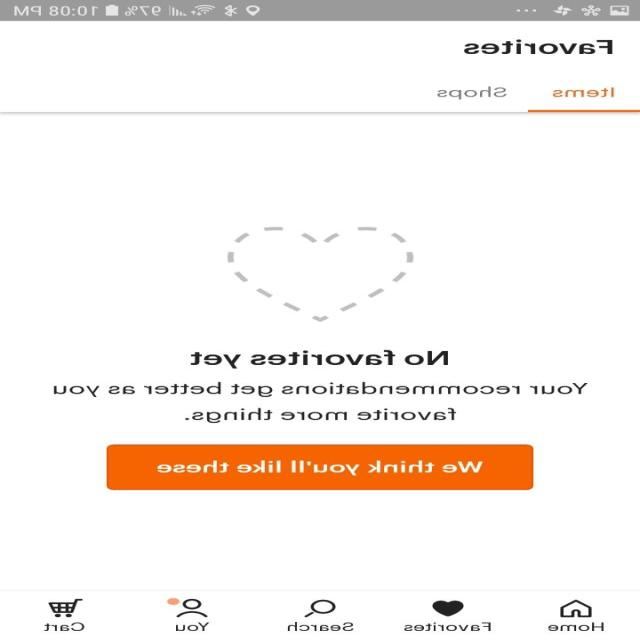Icon: (167, 598, 209, 617), (48, 598, 84, 617), (304, 599, 337, 617), (560, 599, 592, 617), (432, 600, 465, 616)
Image: (226, 226, 414, 322)
Text: (54, 382, 588, 423), (191, 349, 449, 368), (464, 40, 614, 54), (436, 86, 506, 100), (404, 621, 492, 631), (287, 621, 355, 631), (553, 87, 615, 97), (548, 622, 604, 631), (44, 621, 86, 631), (176, 622, 210, 631)
TextButton: (106, 444, 534, 490)
